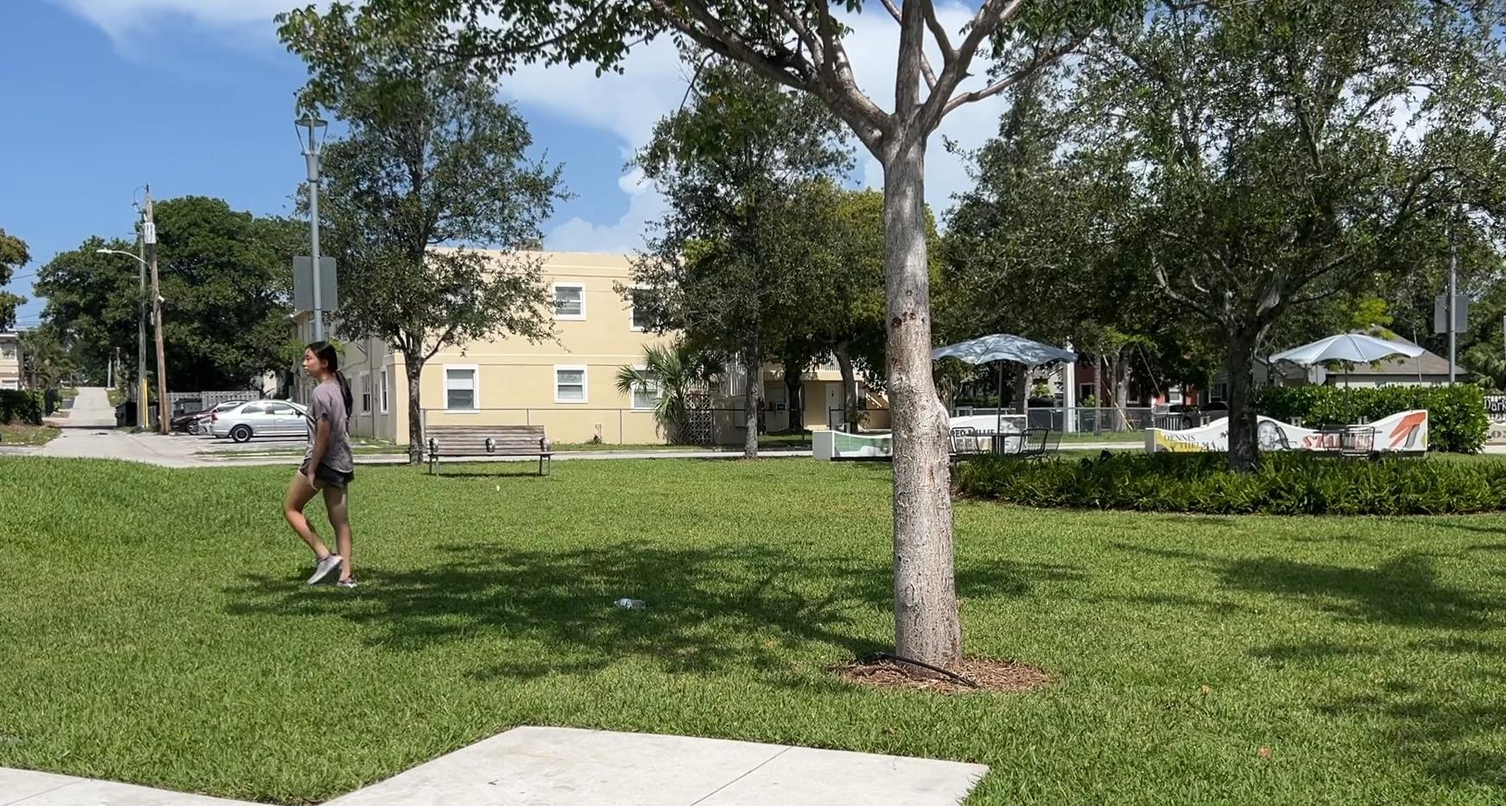Trash: (604, 589, 657, 625)
